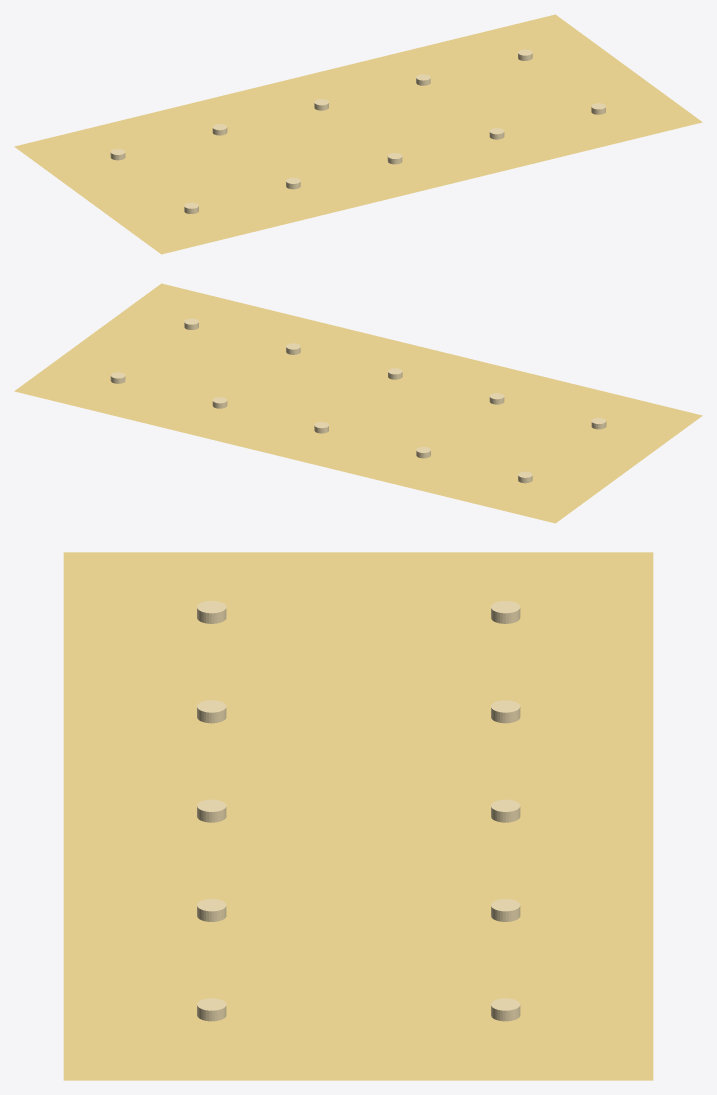
Rendered from Room_V_4_Ceiling.fbx.
The picture shows the model from 3 angles, top to bottom: view 1: azimuth 30°, elevation 25°; view 2: azimuth 150°, elevation 25°; view 3: azimuth 270°, elevation 25°; orthographic projection. The views are drawn at different scales.
Visible parts, largest first — view 1: 천장조명.001; view 2: 천장조명.001; view 3: 천장조명.001.
Part boxes in pixels (x1,y1,x2,y2): 천장조명.001: [14, 14, 702, 254]; 천장조명.001: [14, 283, 702, 523]; 천장조명.001: [63, 552, 653, 1080].
Size of the model in its own units: 851 by 10 by 401.
